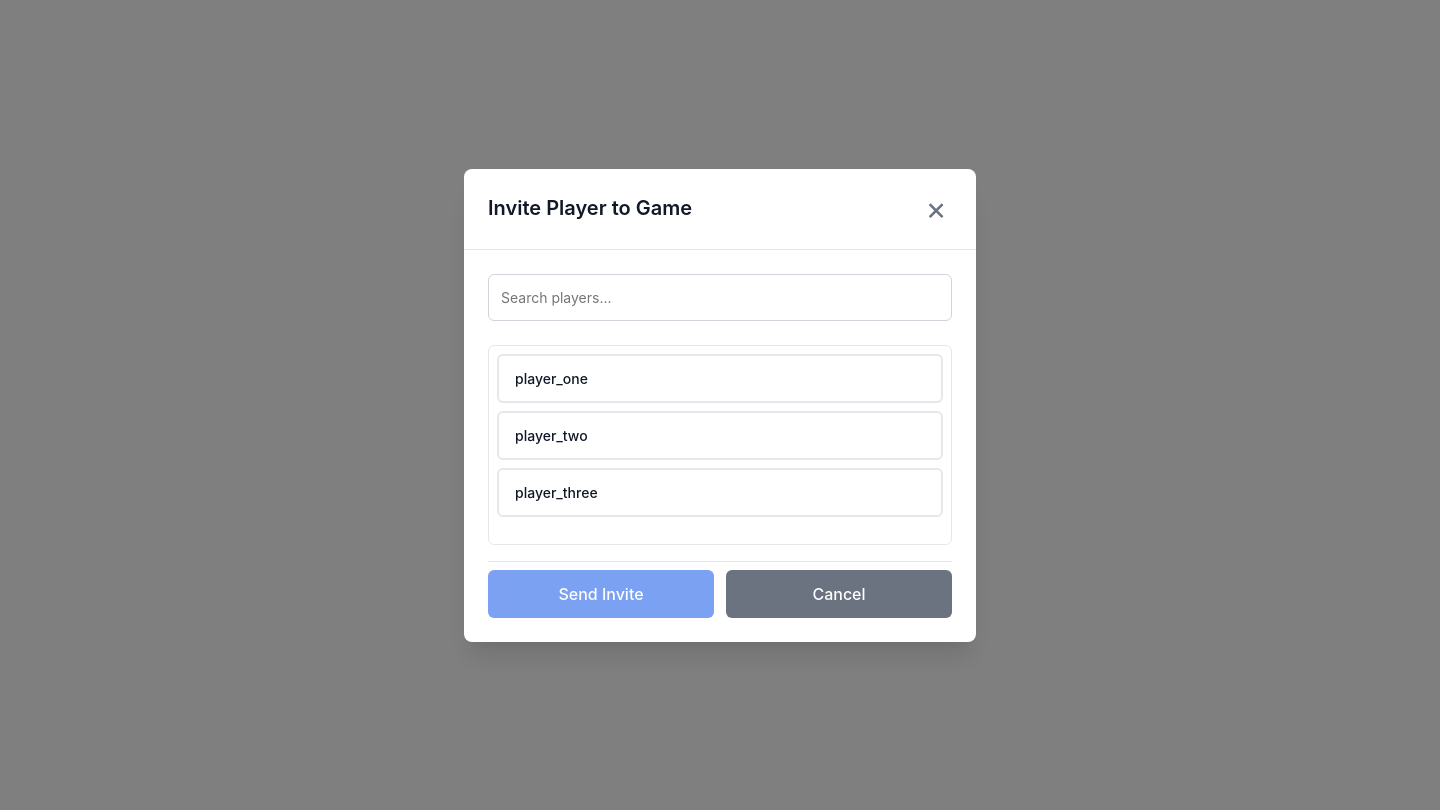
Test case: InviteModal › Search/Filter Functionality › should show no results message when search has no matches
Type "nonexistent" into the field with placeholder "Search players..." at x=720, y=297, box [488, 274, 952, 320]
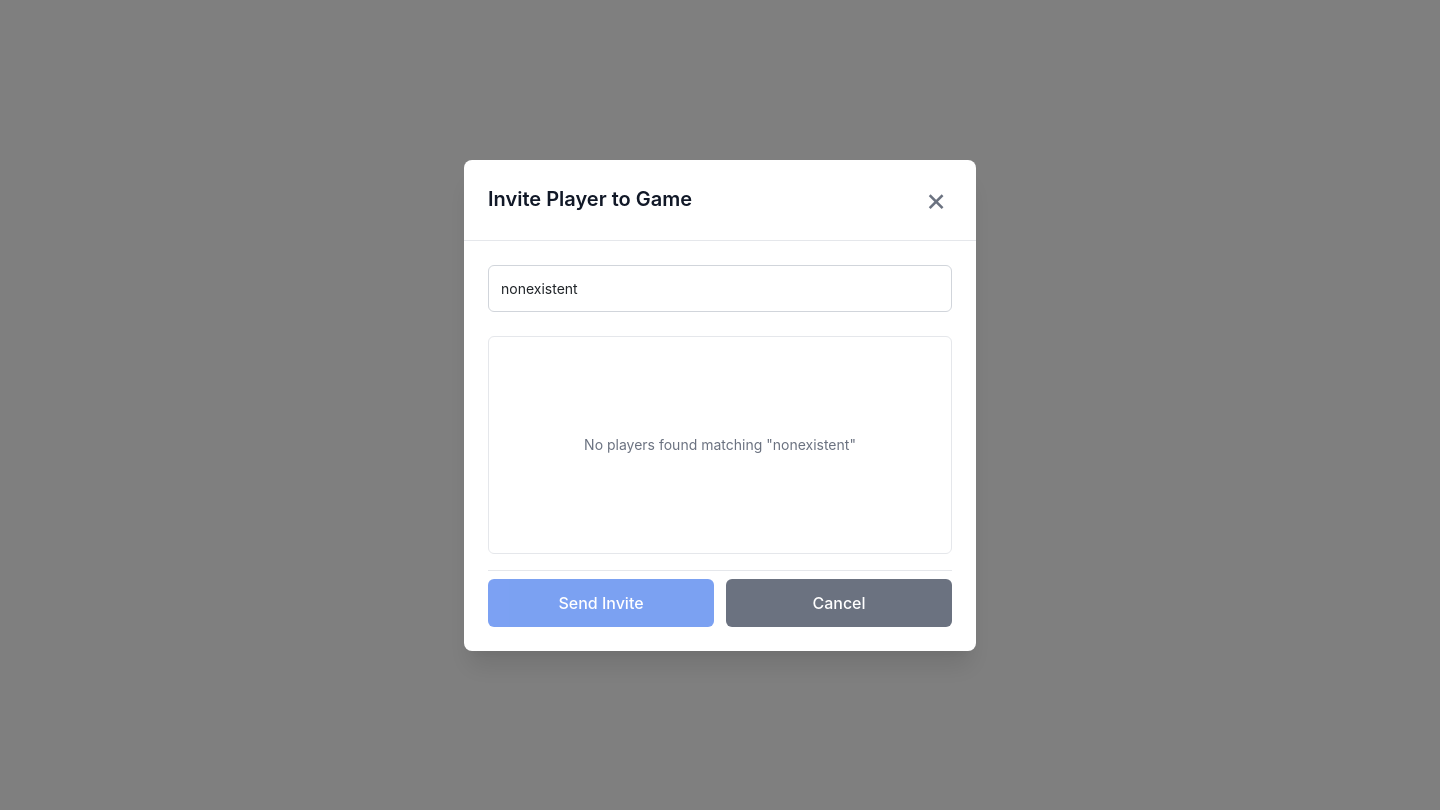
Expected: the text "No players found matching \"nonexistent\"" is shown, [584, 436, 856, 453]
